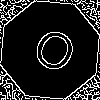O: (25, 25, 81, 84)
